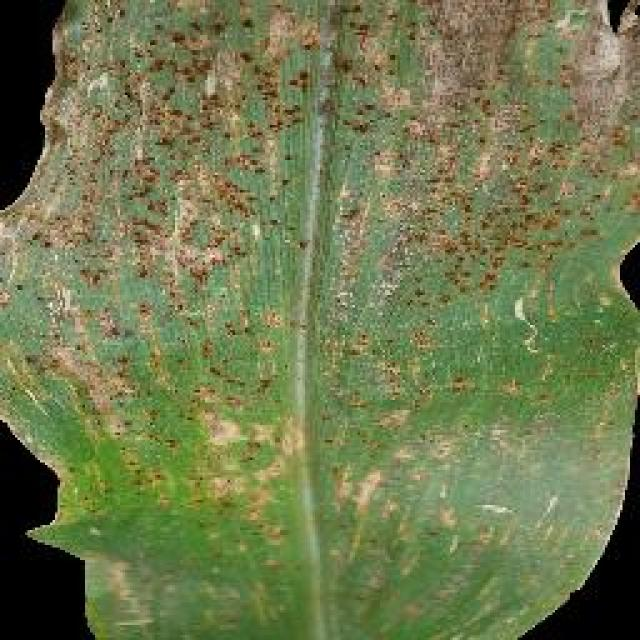Corn Common Rust: (68, 11, 535, 626)
